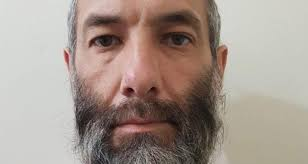middle_eastern_male: (82, 11, 220, 163)
